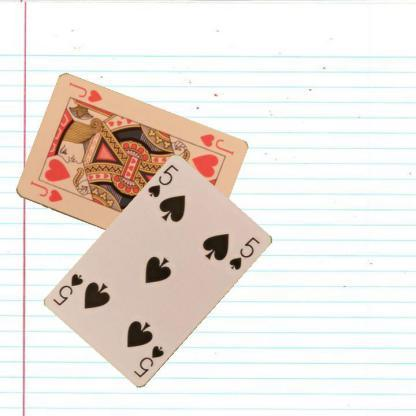5s: (145, 162, 180, 200), (131, 342, 166, 379)
Jh: (197, 131, 235, 157), (28, 178, 64, 204)
